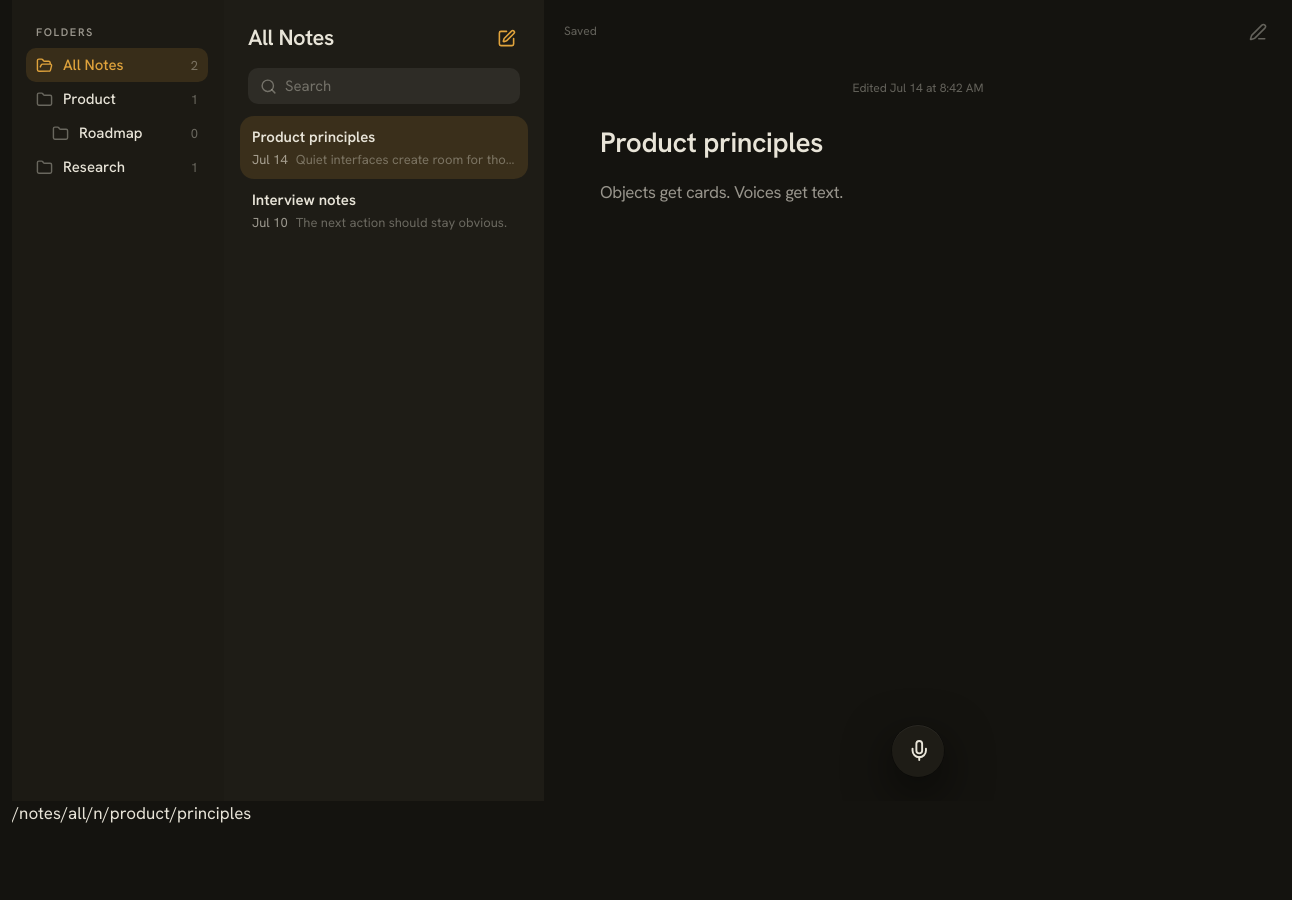
it: Notes page › renders API-derived titles, updated-desc rows, previews, and folder filtering
Expected: the field showing "Product principles" is shown, [600,126,1236,158]
Expected: the text "Quiet interfaces create room for thought." is shown, [296,150,516,169]
Click the button "Product 1" at (117, 99), box [26,82,208,116]
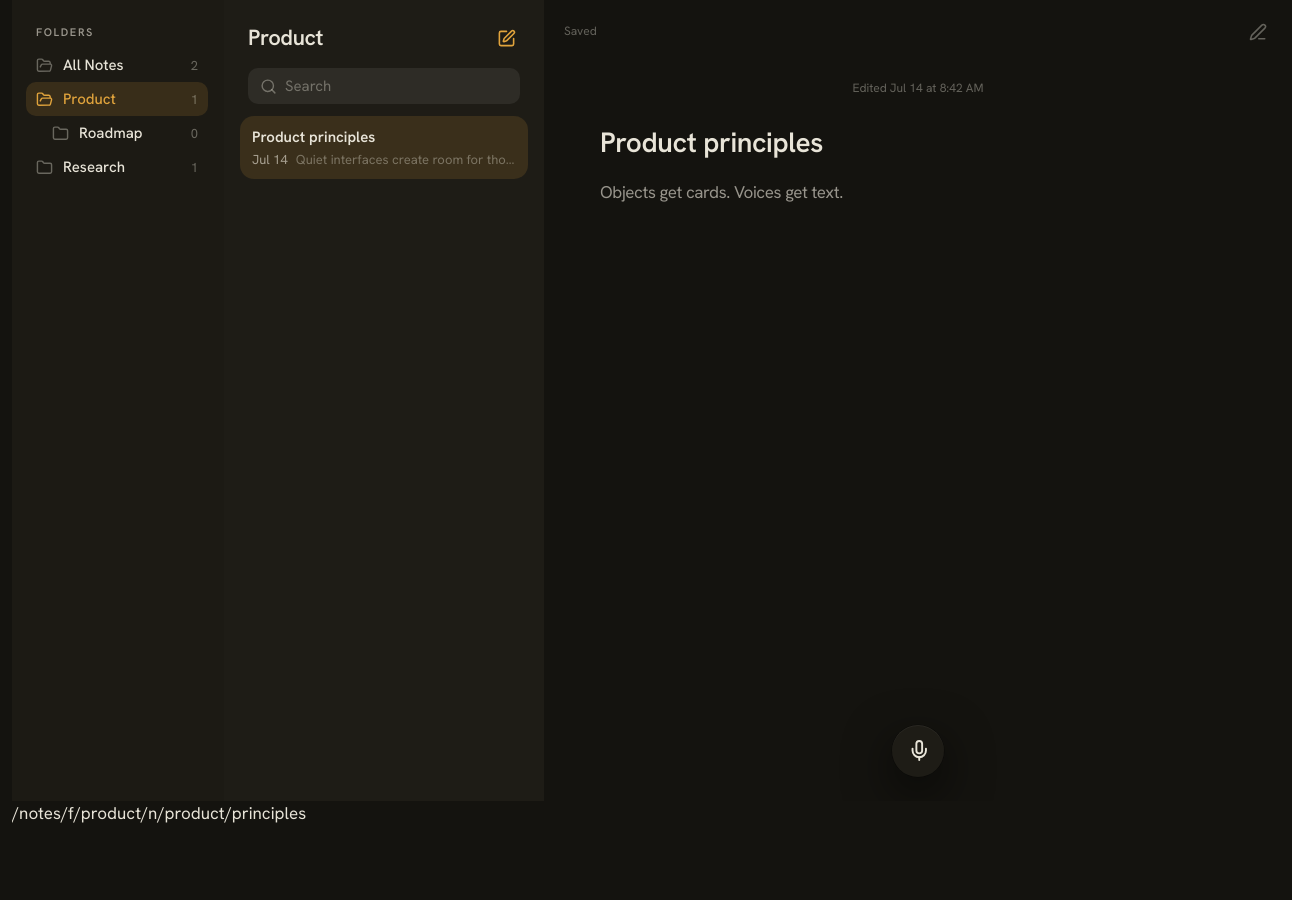
Expected: the text "Product principles" is shown, [252,127,375,147]
Now the button "Interview notes" is gone
